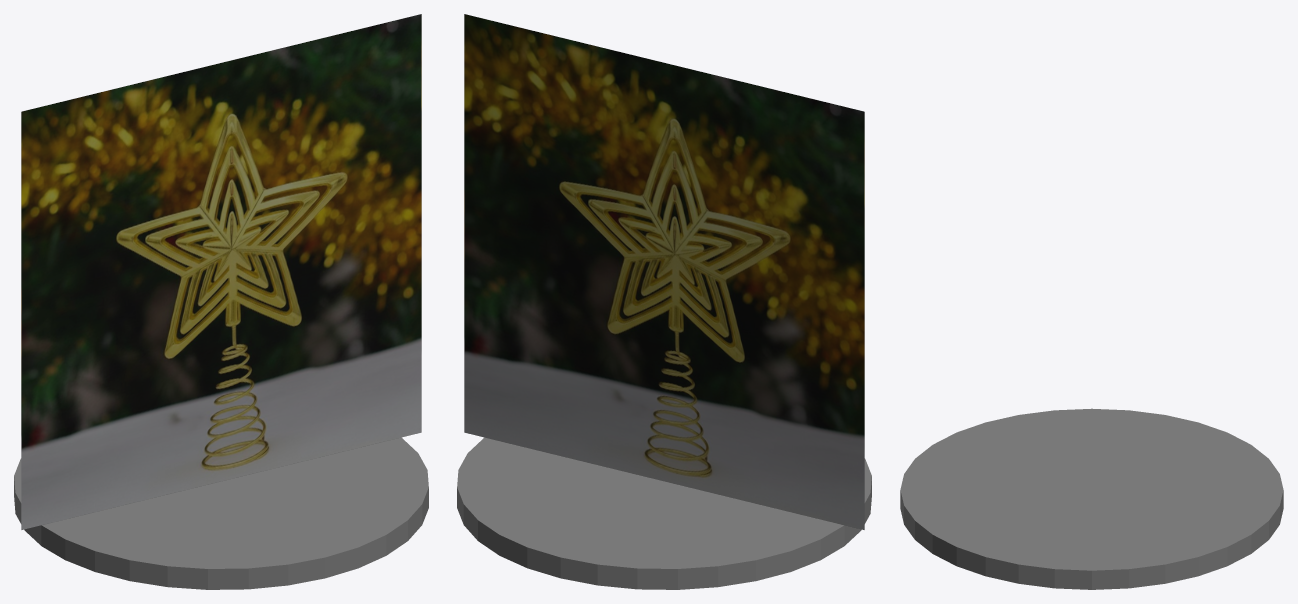
3 renders of one model, left to right at view 1: azimuth 30°, elevation 25°; view 2: azimuth 150°, elevation 25°; view 3: azimuth 270°, elevation 25°, orthographic. The views are drawn at different scales.
Visible parts, largest first — view 1: photo, base; view 2: photo, base; view 3: base.
Part boxes in pixels (x1,y1,x2,y2): photo: [21, 14, 421, 529]; base: [14, 437, 428, 589]; photo: [464, 14, 864, 529]; base: [457, 437, 871, 589]; base: [900, 408, 1283, 589].
Bounding box in the file's own units: 0.4 × 0.42 × 0.36.
1 material, 1 textured.
